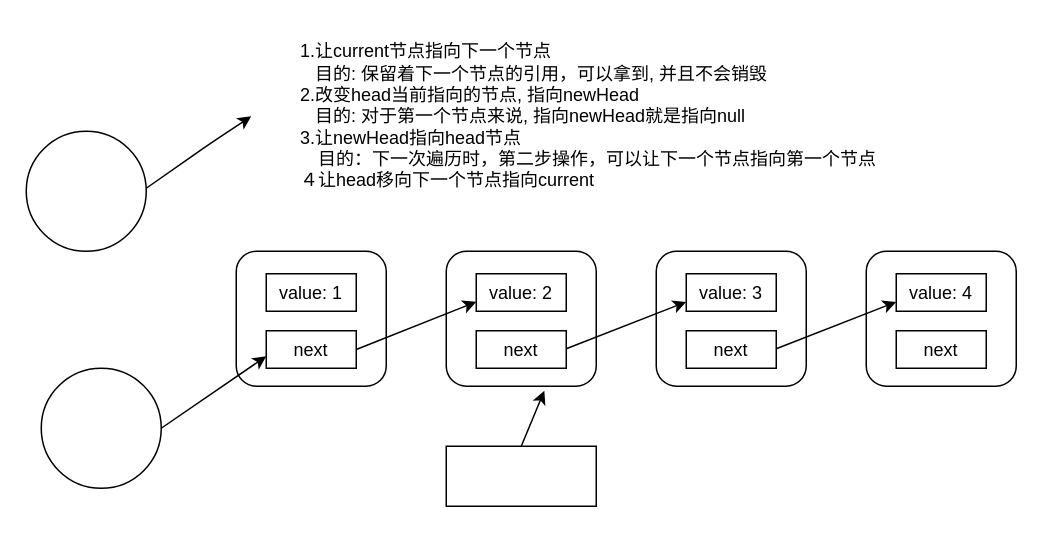
This 1043x533 diagram has some shape labels left out. The centre of each missing label's shape, as x and y in pixels:
current: point 520,475
header: point 100,427
newHeader: point 85,190
